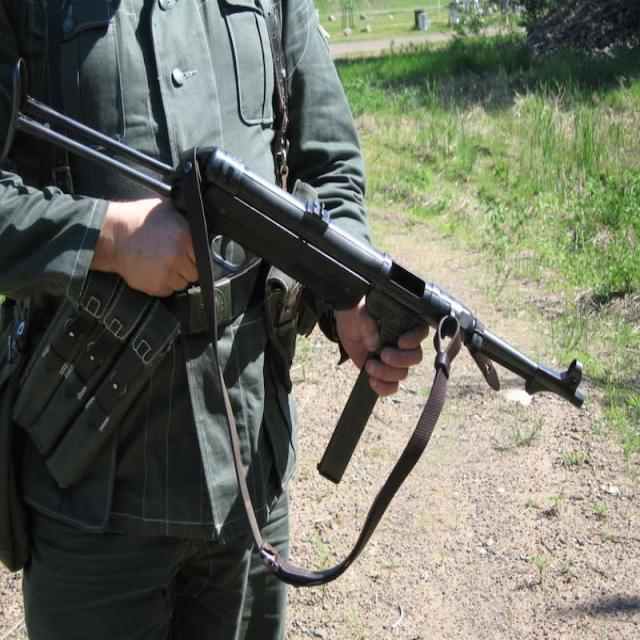SMG: (14, 64, 585, 484)
